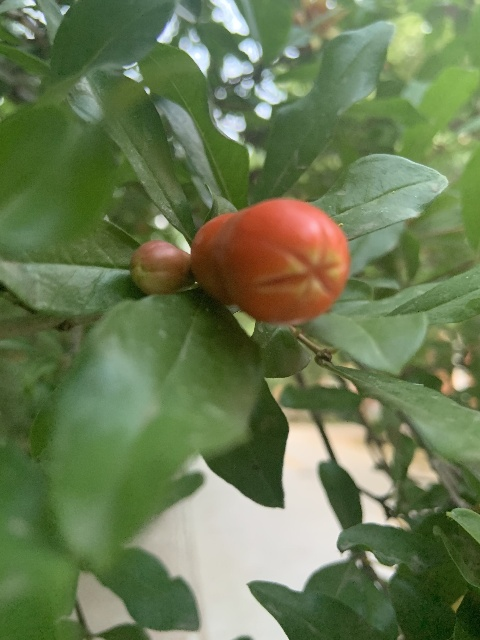bud: (190, 199, 350, 325), (130, 239, 190, 296)
